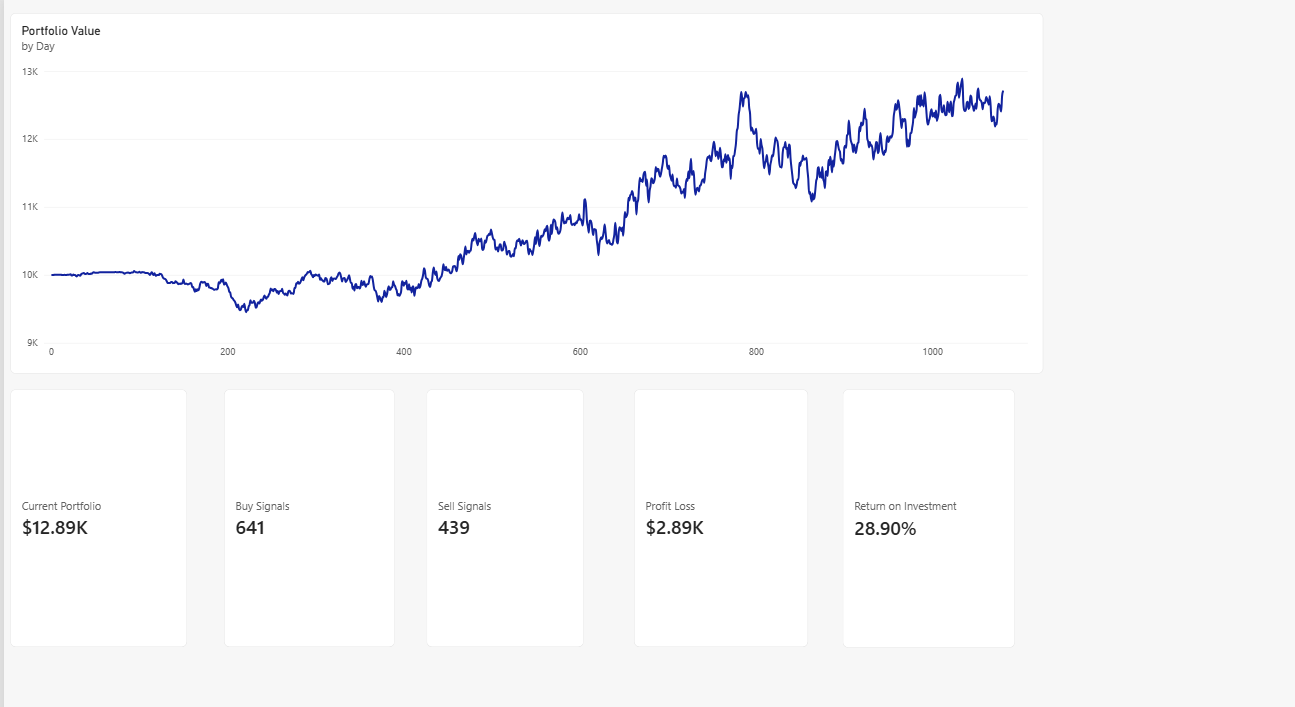

What the dashboard file says about the page in this screenshot:
{"tool":"powerbi","page":{"name":"Commodity Trading Arena","canvas":[1920,1080],"ordinal":1},"visuals":[{"type":"lineChart","fields":{"Category":["silver_dashboard_trading.Day"],"Y":["Sum(silver_dashboard_trading.Portfolio_Value)"]},"box":[10,22,1530,534],"z":0},{"type":"cardVisual","fields":{"Data":["silver_dashboard_trading.Current Portfolio"]},"box":[10,580,262.5,382.5],"z":1},{"type":"cardVisual","fields":{"Data":["model_comparison.Buy Signals"]},"box":[325,580,253.8,382.5],"z":2},{"type":"cardVisual","fields":{"Data":["silver_dashboard_trading.Sell Signals"]},"box":[625,580,233.8,382.5],"z":3},{"type":"cardVisual","fields":{"Data":["model_comparison.Profit Loss"]},"box":[933.8,580,258.8,382.5],"z":4},{"type":"cardVisual","fields":{"Data":["model_comparison.ROI %"]},"box":[1242,580,255,383.8],"z":5}]}

Visuals, with their boxes on the page's 1920x1080 design canvas (x1, y1, x2, y2). These are canvas units, not pixel positions in the 1295x707 screenshot, which may show the page scaled, cropped or inside an application window:
lineChart - silver_dashboard_trading.Day x Sum(silver_dashboard_trading.Portfolio_Value): [10, 22, 1540, 556]
cardVisual - silver_dashboard_trading.Current Portfolio: [10, 580, 272, 962]
cardVisual - model_comparison.Buy Signals: [325, 580, 579, 962]
cardVisual - silver_dashboard_trading.Sell Signals: [625, 580, 859, 962]
cardVisual - model_comparison.Profit Loss: [934, 580, 1193, 962]
cardVisual - model_comparison.ROI %: [1242, 580, 1497, 964]
